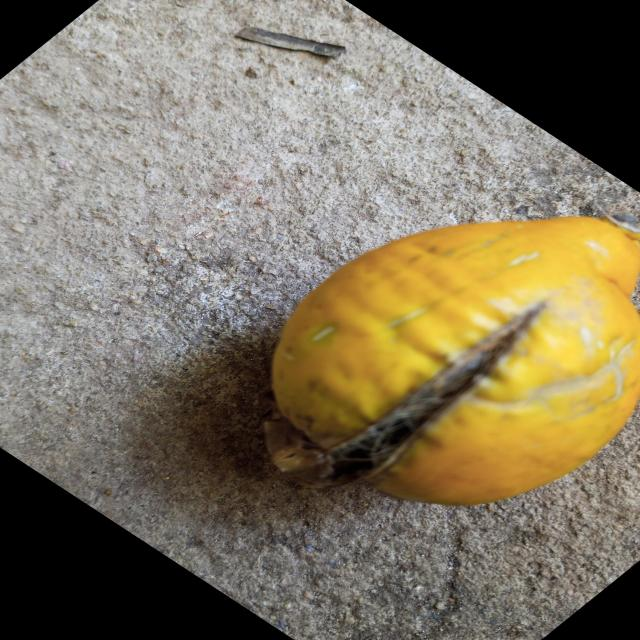damaged: (266, 217, 640, 508)
